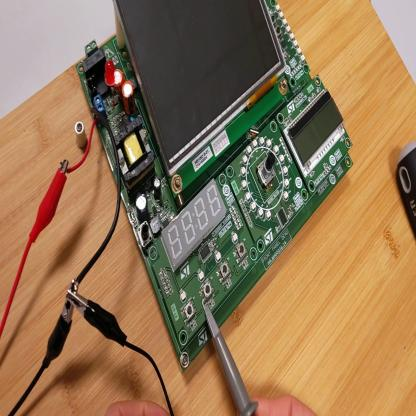hand: (257, 393, 319, 416), (106, 395, 172, 416)
low voltage board: (74, 1, 356, 366)
oscilloscope probe tip: (198, 296, 258, 414)
screwdriver-: (397, 142, 416, 245)
working area: (2, 3, 416, 415)
